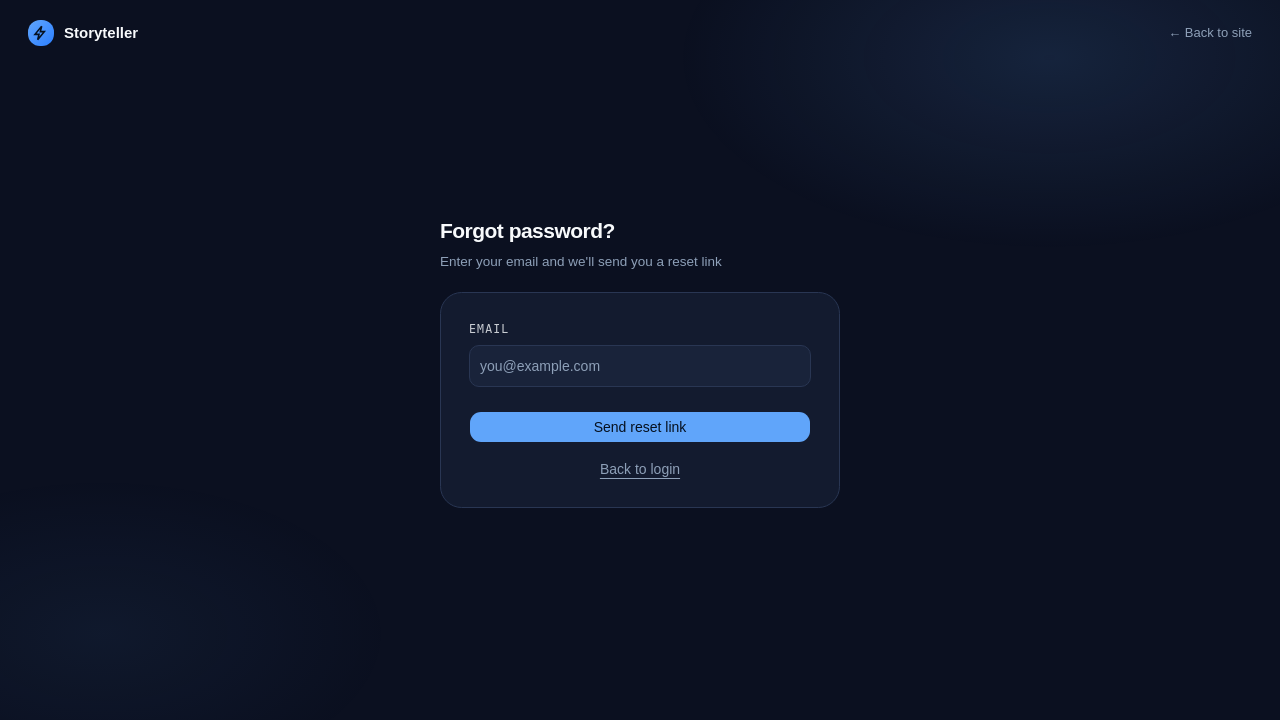
Test: ForgotPasswordPage › shows error when request fails
Type "a@b.com" into the field labelled "Email" at (640, 366), box [469, 344, 811, 386]
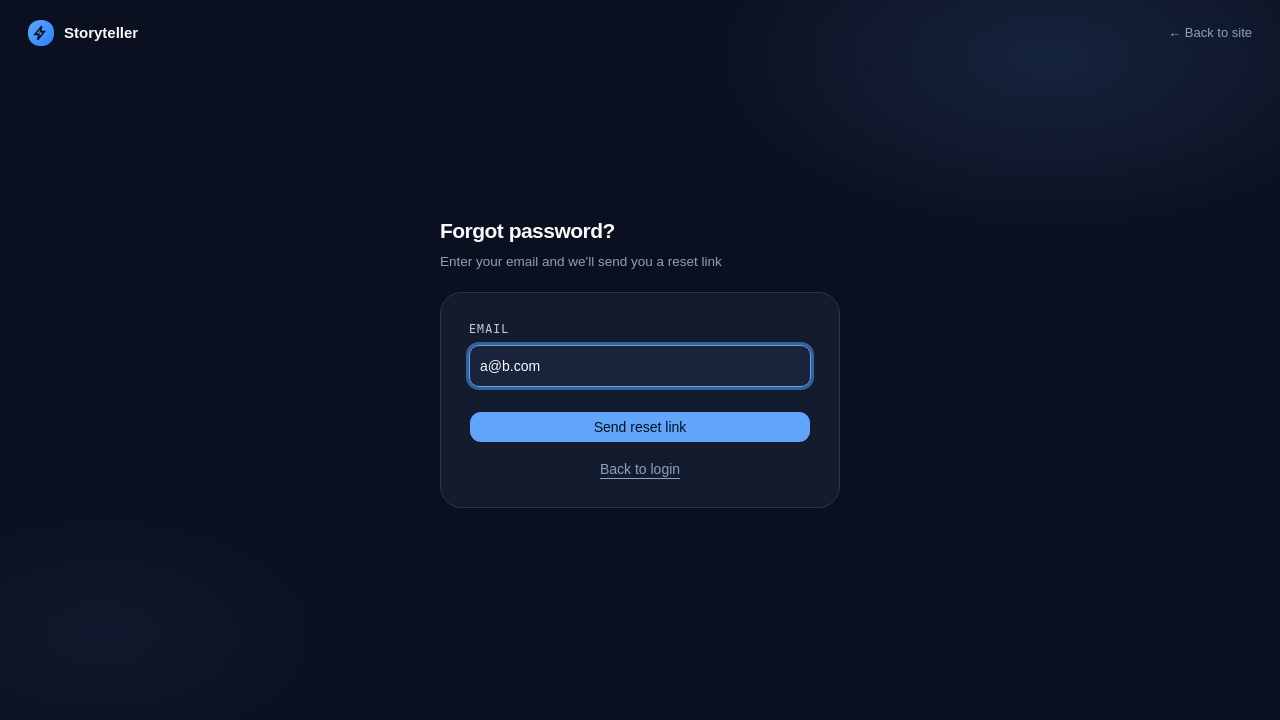
Click the button "Send reset link" at (640, 426), box [469, 410, 811, 442]
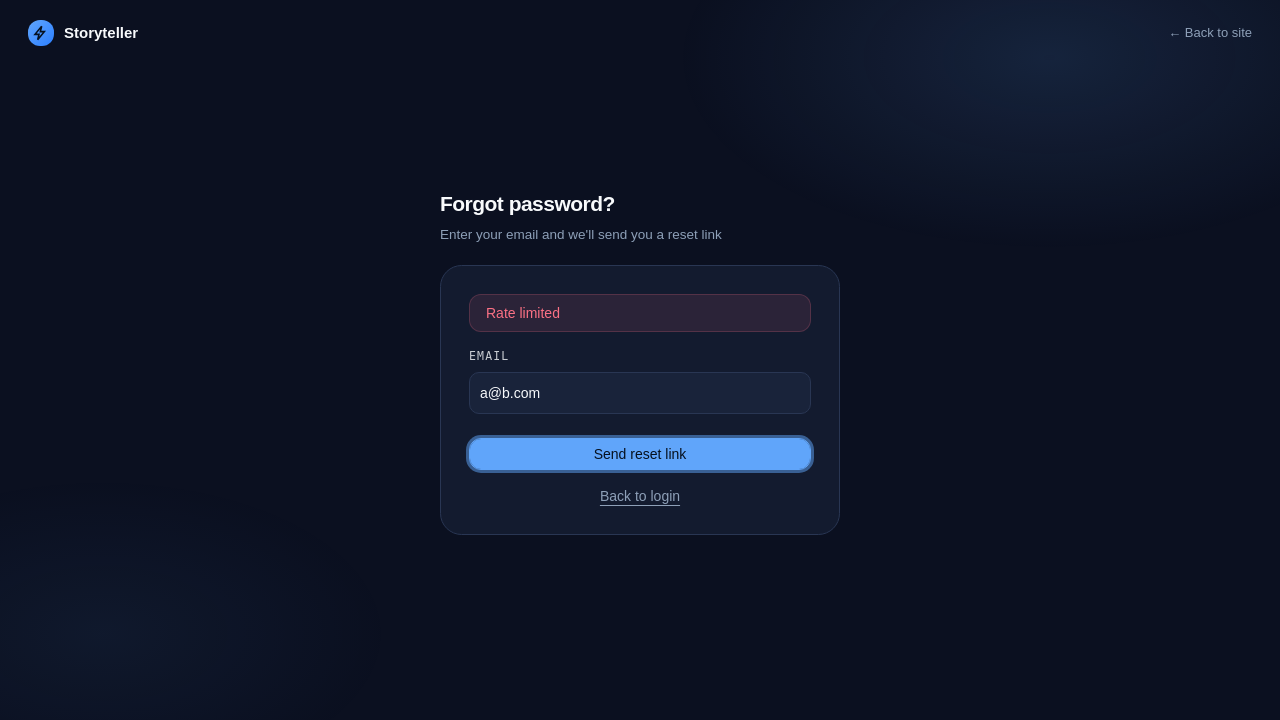
Expected: the text "Rate limited" is shown, [469, 294, 811, 332]
